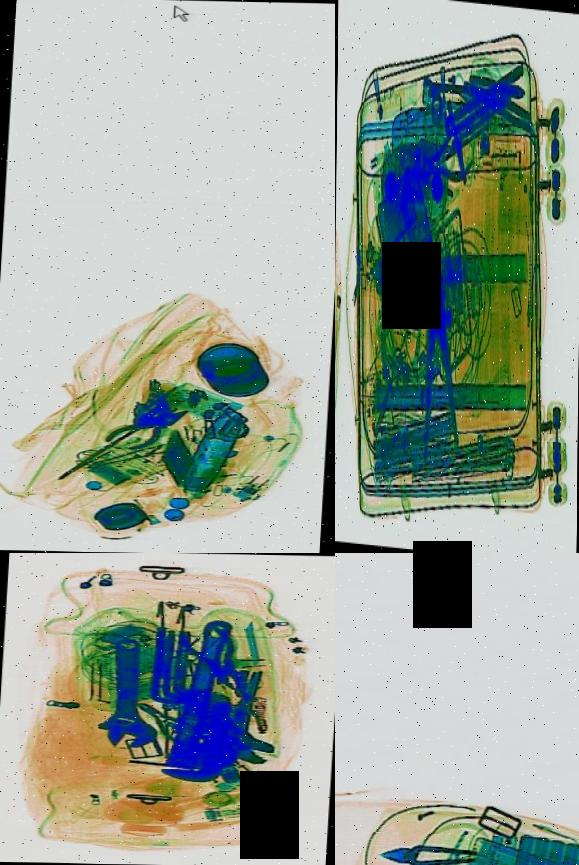Pliers: (412, 265, 461, 464), (172, 614, 262, 699), (101, 392, 191, 465), (414, 110, 474, 200), (466, 65, 532, 130)
Scissors: (378, 815, 486, 865)
Wrench: (90, 637, 163, 749)
